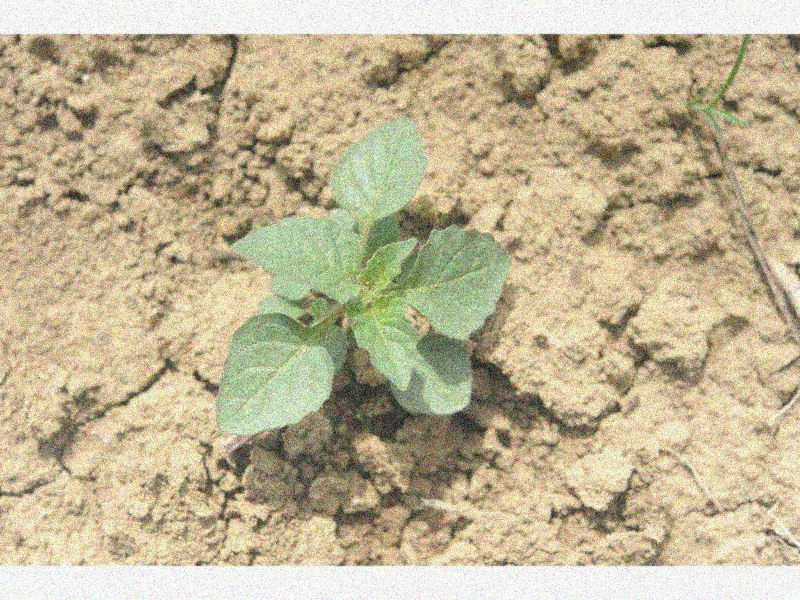nightshade: (215, 112, 510, 436)
